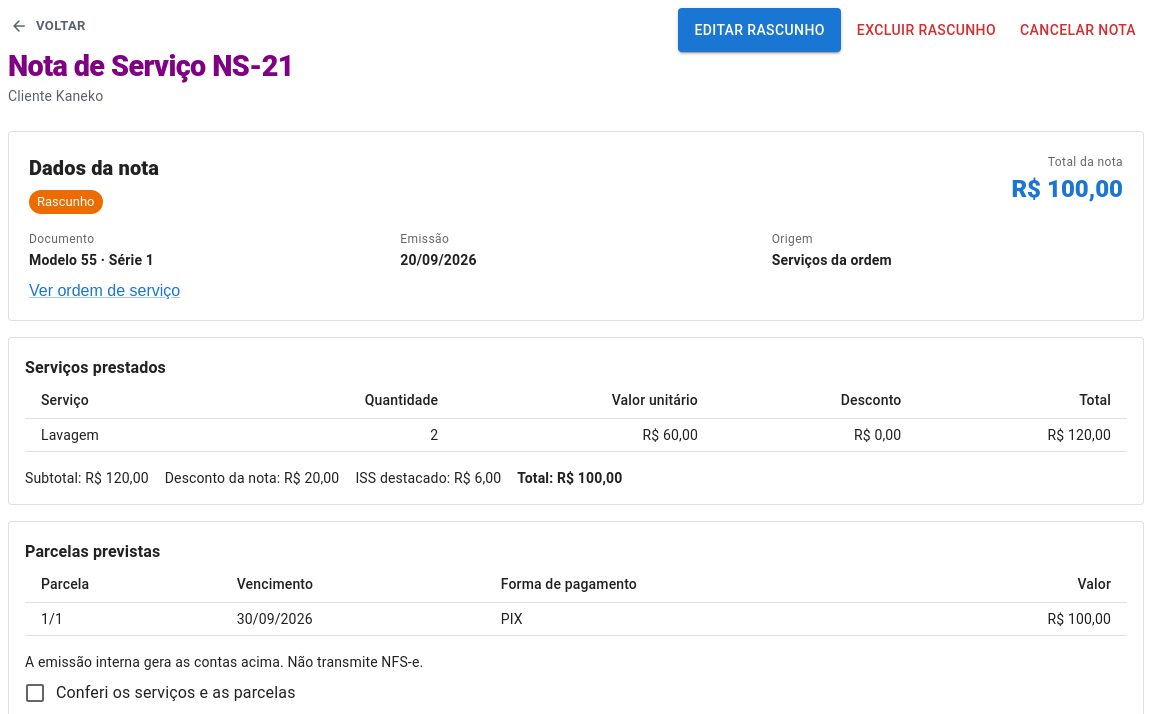
Test: conferência da Nota de Serviço › pede motivo e envia o cancelamento com a versão exibida
Click the button "Cancelar nota": {"x": 1078, "y": 30} [1012,8,1144,52]
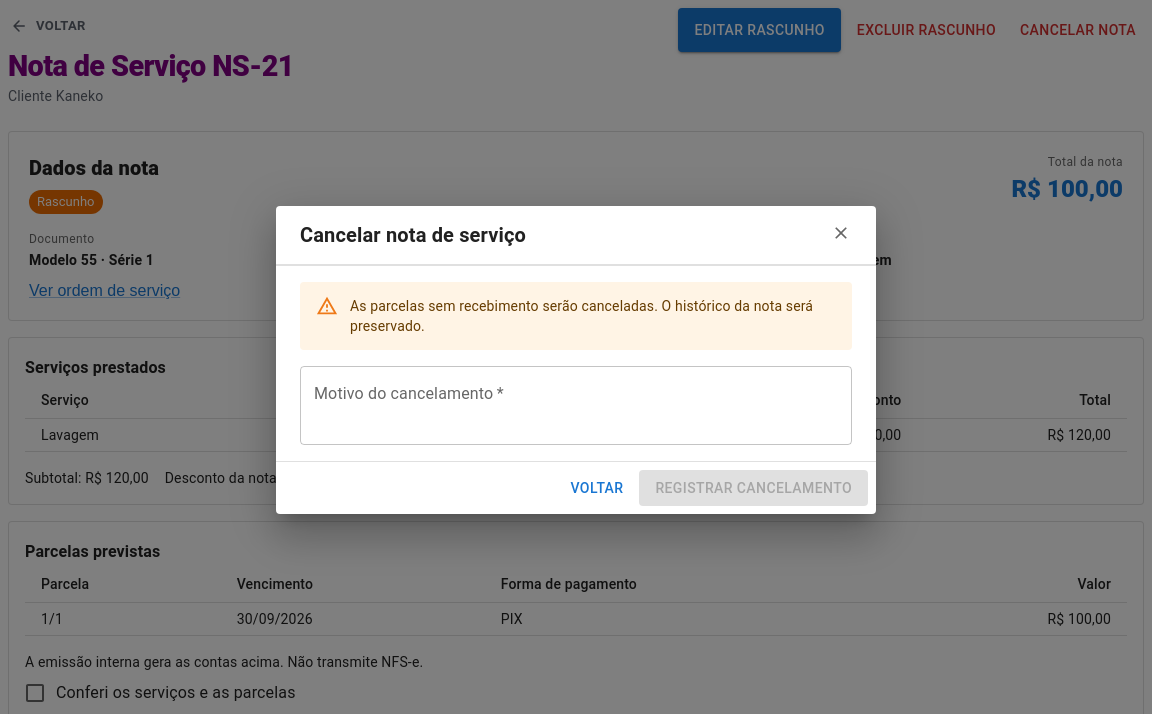
Check: the button "Registrar cancelamento" is disabled, box [639,470,868,506]
In the text box labelled "Motivo do cancelamento": {"x": 576, "y": 405} [314,382,838,428], type "Duplicidade"
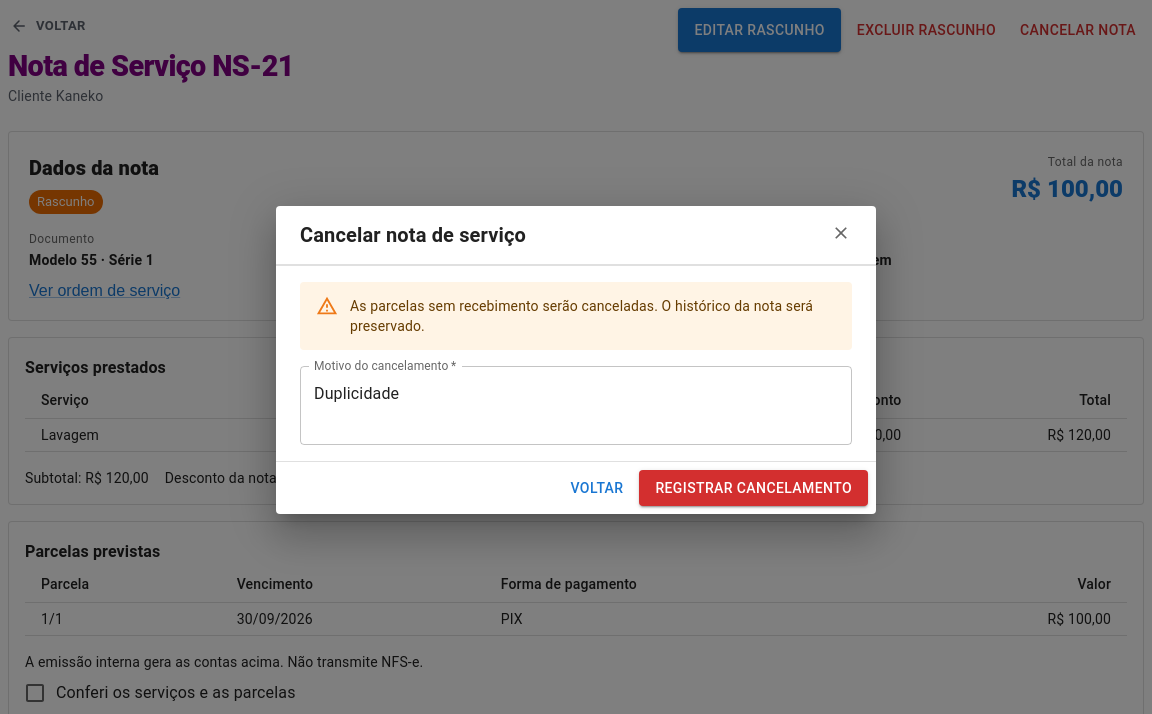
Check: the button "Registrar cancelamento" is enabled
Click the button "Registrar cancelamento": {"x": 754, "y": 488} [639,470,868,506]
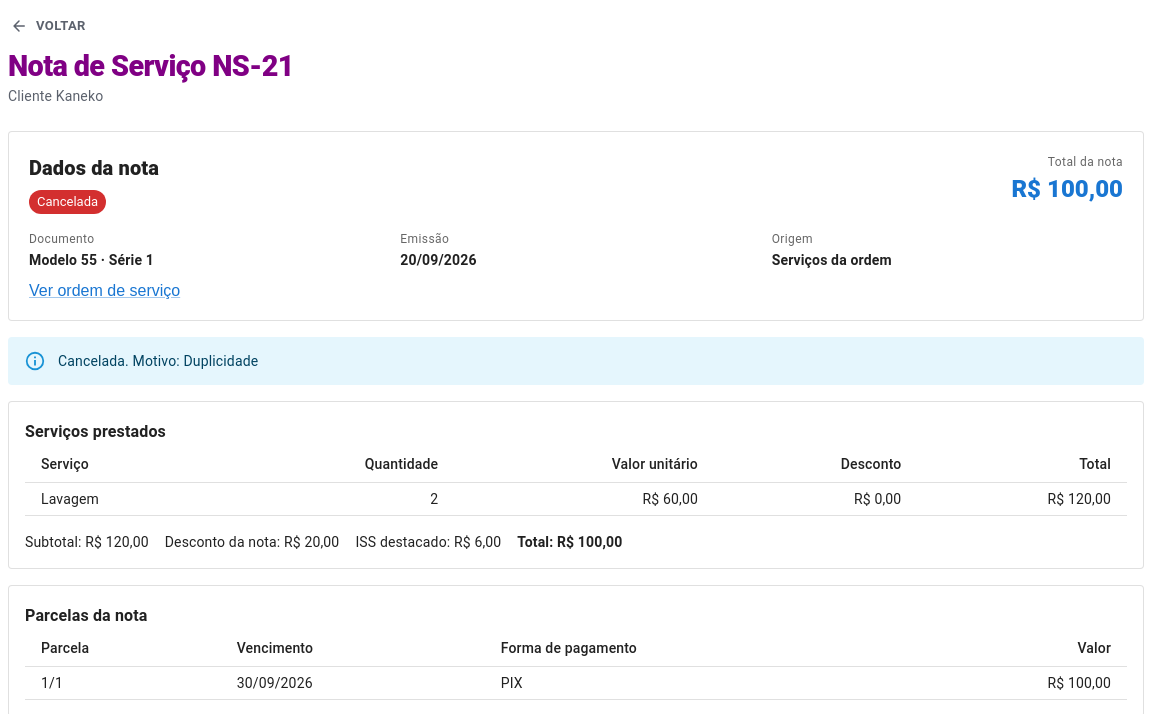
Check: the text "Cancelada. Motivo: Duplicidade" is shown, box [58,353,258,369]
